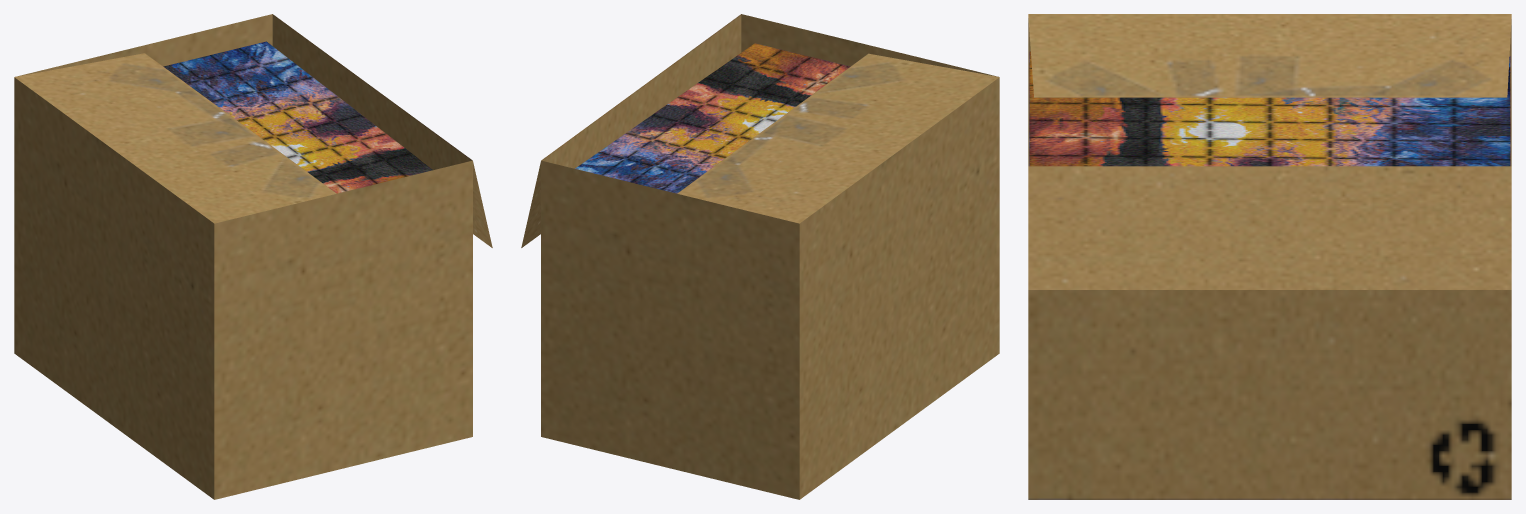
File: BlotterStackL.fbx
3 views of the same model, side by side, from view 1: azimuth 30°, elevation 25°; view 2: azimuth 150°, elevation 25°; view 3: azimuth 270°, elevation 25° (orthographic). The views are drawn at different scales.
Visible parts, largest first — view 1: Cube.001; view 2: Cube.001; view 3: Cube.001.
Boxes of the visible parts, x1,y1,x2,y2 form: Cube.001: (14, 14, 492, 499); Cube.001: (521, 14, 999, 499); Cube.001: (1028, 14, 1511, 499).
Size of the model in its own units: 0.173 by 0.1641 by 0.2155.
